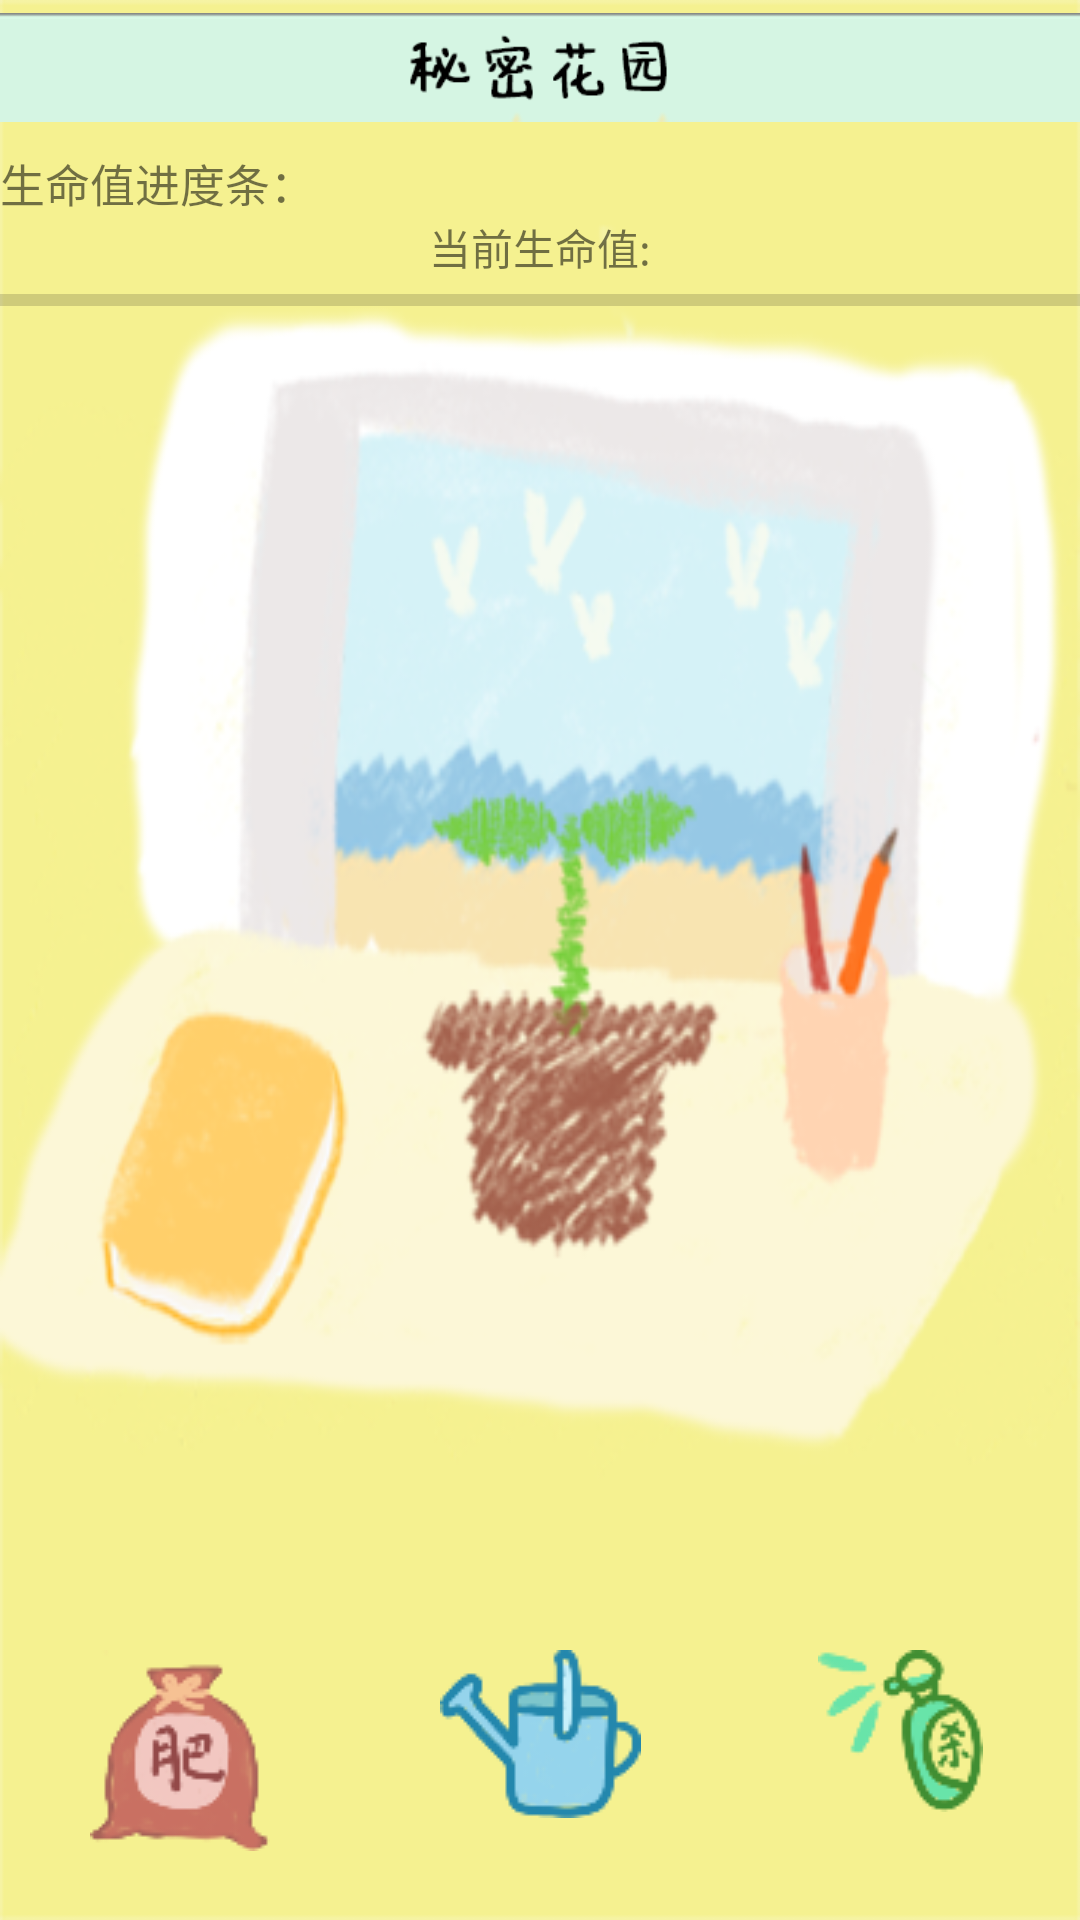

Screen size 1080 x 1920. Icon name, then its box in pixels as bbox=[x1, y1, x2, y2]:
debug: bbox=[818, 1650, 983, 1812]
water: bbox=[440, 1650, 641, 1818]
